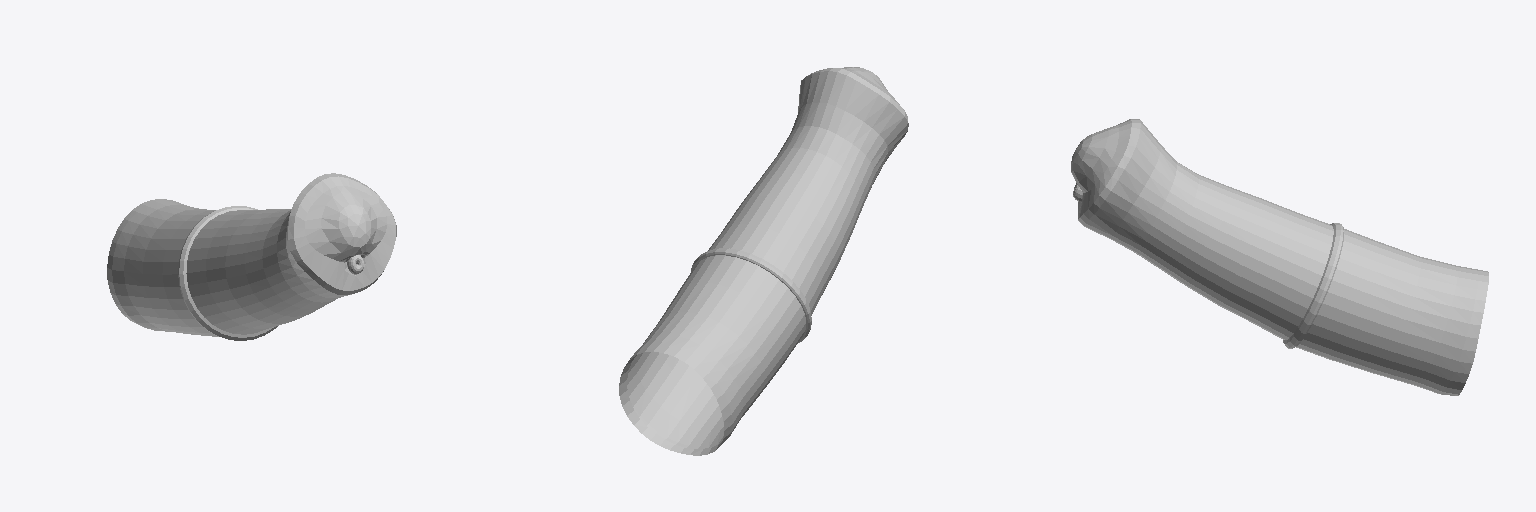
The model's file is 1Anthro shaft out.obj.
The picture shows the model from 3 angles: view 1: azimuth 30°, elevation 25°; view 2: azimuth 150°, elevation 25°; view 3: azimuth 270°, elevation 25°; orthographic projection.
Parts seen in each view (by area): view 1: dick_in_sheath.011_horsecock.022; view 2: dick_in_sheath.011_horsecock.022; view 3: dick_in_sheath.011_horsecock.022.
Boxes of the visible parts, <box> form: dick_in_sheath.011_horsecock.022: <box>107,173,396,340</box>; dick_in_sheath.011_horsecock.022: <box>619,67,908,455</box>; dick_in_sheath.011_horsecock.022: <box>1071,119,1488,395</box>.
Size of the model in its own units: 2.43 by 5.26 by 7.49.